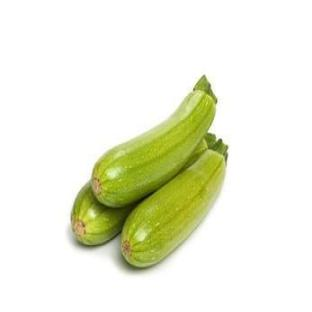Zucchini: (92, 77, 216, 207), (122, 141, 227, 267), (72, 183, 135, 244)
